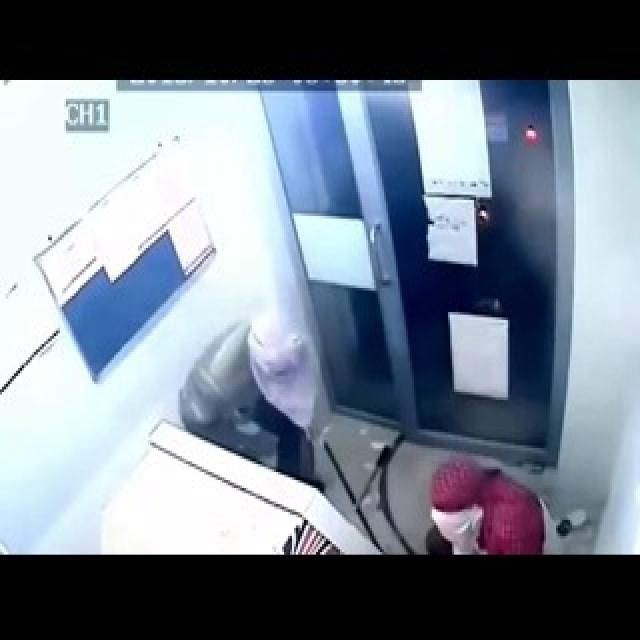thief: (181, 309, 339, 472), (422, 464, 556, 554)
